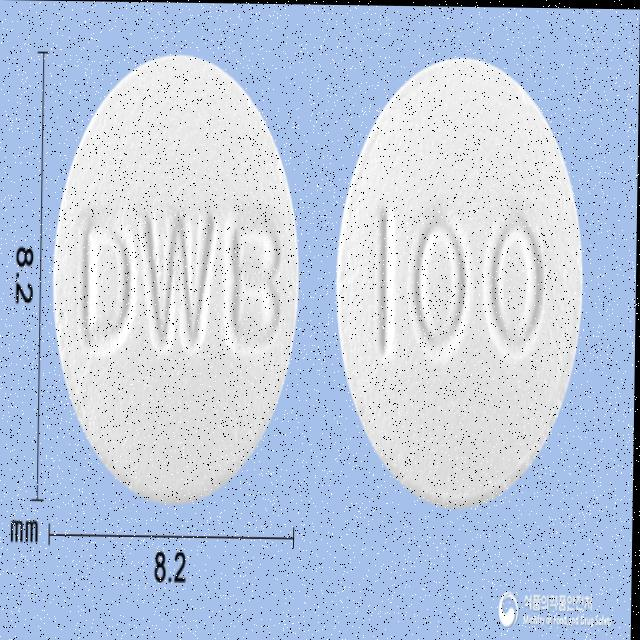Ciracle: (335, 52, 588, 508), (51, 51, 301, 506)
